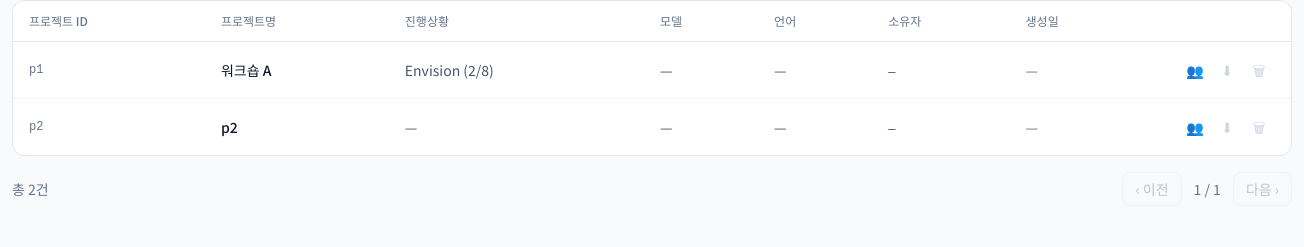
Test case: ProjectList export › 빌드 세션 중이면 그 이유를 문구로 보여준다
Click the button named "프로젝트 내보내기".
click(1227, 70)  # box [1211, 54, 1243, 86]
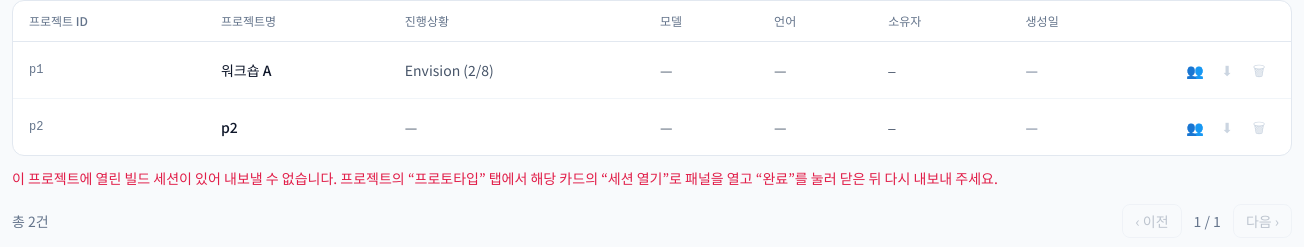
Check: the text "“프로토타입” 탭에서 해당 카드의 “세션 열기”" is shown, box [12, 168, 998, 188]
